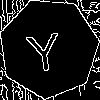Y: (24, 23, 64, 73)
